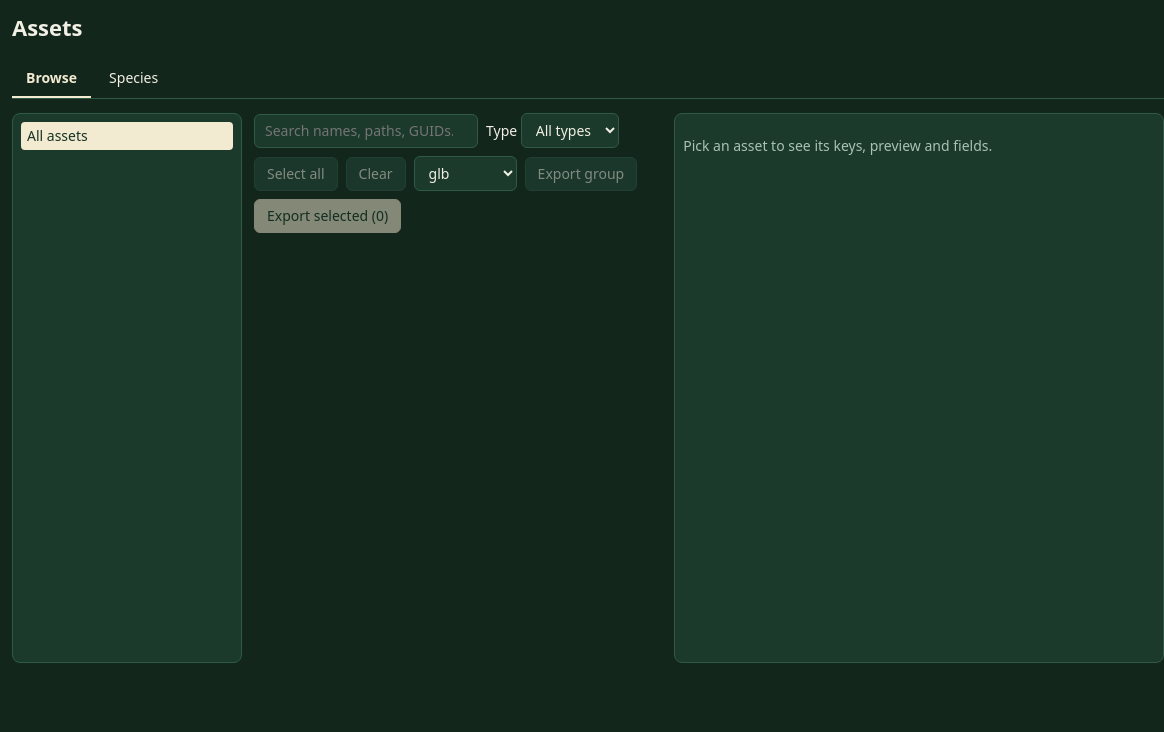
AssetsView › switches between browsing and species
Click the tab "Species": {"x": 134, "y": 79} [95,60,172,98]
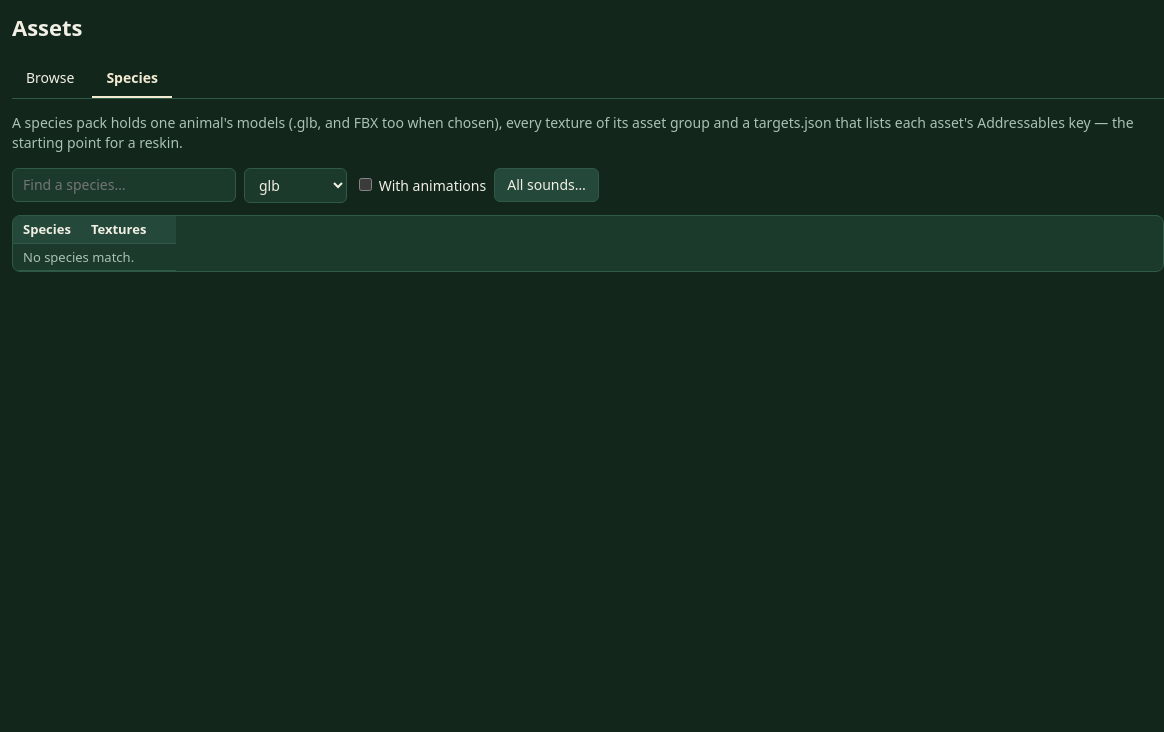
Check: the search field labelled "Find a species" is shown, box [12,168,236,202]
